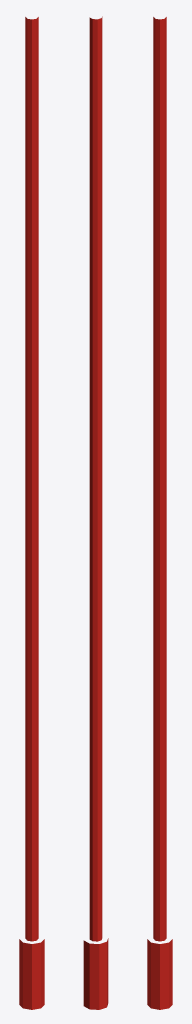
The model's file is stirring_column.glb.
3 views of the same model, side by side, from view 1: azimuth 90°, elevation 25°; view 2: azimuth 150°, elevation 25°; view 3: azimuth 270°, elevation 25° (orthographic).
Parts seen in each view (by area): view 1: stirring_column; view 2: stirring_column; view 3: stirring_column.
Part boxes in pixels (<box>): stirring_column: <box>19,17,44,1009</box>; stirring_column: <box>83,16,108,1009</box>; stirring_column: <box>147,17,172,1009</box>.
Bounding box in the file's own units: 0.7 × 30 × 0.7.
Materials: 1 (1 with a texture image).
